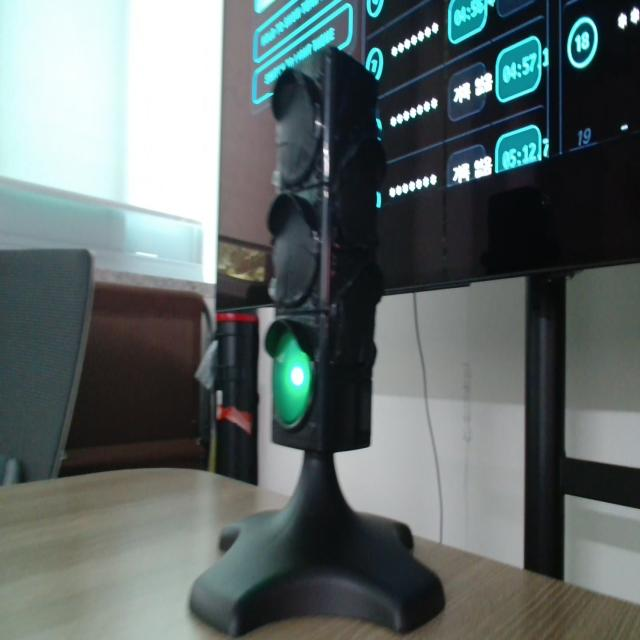green_light: (273, 332, 312, 427)
